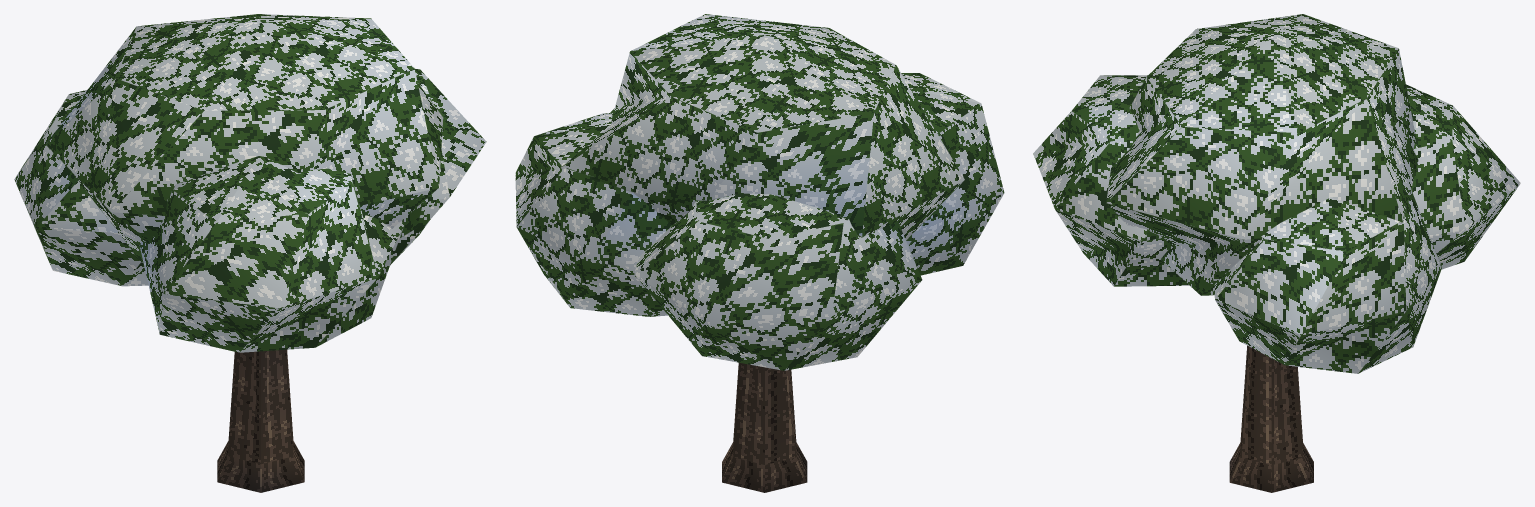
The model's file is mnat.oak__old.glb.
3 renders of one model, left to right at view 1: azimuth 30°, elevation 25°; view 2: azimuth 150°, elevation 25°; view 3: azimuth 270°, elevation 25°, orthographic. The views are drawn at different scales.
Visible parts, largest first — view 1: kit_crown, kit_trunk; view 2: kit_crown, kit_trunk; view 3: kit_crown, kit_trunk.
Boxes of the visible parts, box(x1,y1,x2,y2) form: kit_crown: box(14, 14, 486, 352); kit_trunk: box(217, 349, 304, 492); kit_crown: box(515, 14, 1004, 370); kit_trunk: box(722, 363, 807, 492); kit_crown: box(1033, 14, 1520, 373); kit_trunk: box(1229, 345, 1313, 492).
Size of the model in its own units: 7.85 by 7.76 by 7.92.
Materials: 2 (2 with a texture image).
